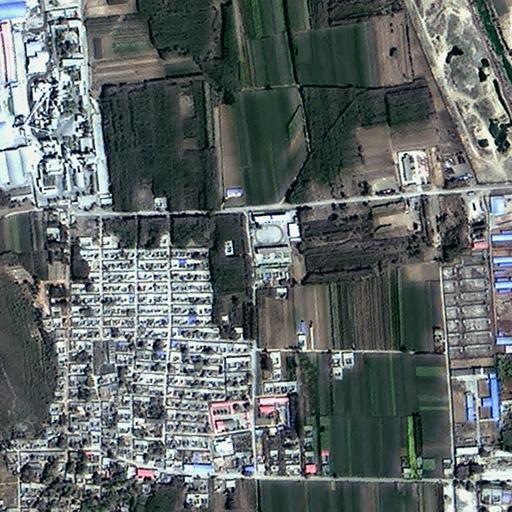school: (247, 204, 301, 265)
